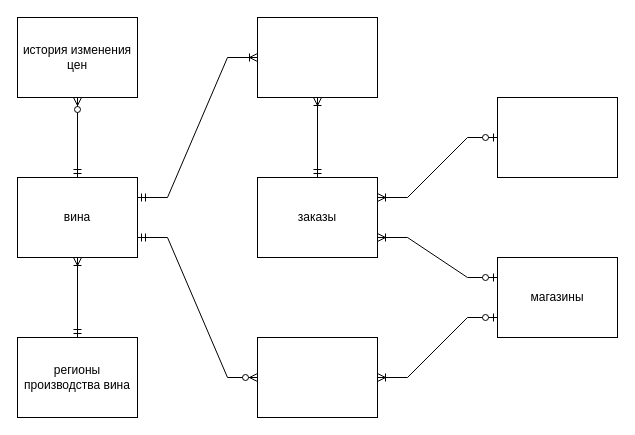
This 635x435 diagram has some shape labels left out. The shapes that lost their labels are listed below. From the top down, each one's centre as x and y in pixels, then its label:
At pixel 317 57: "детали заказов".
At pixel 557 137: "клиенты".
At pixel 317 377: "складские запасы".
